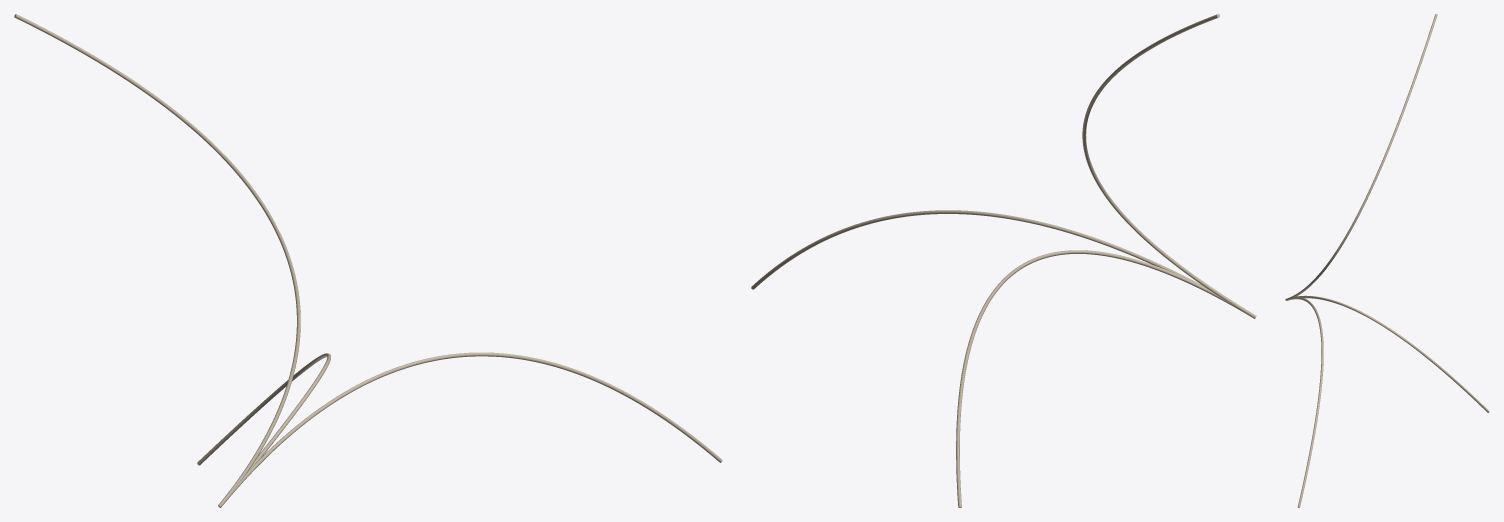
The model's file is ConjectureSpeculationSTRINGS.gltf.
The picture shows the model from 3 angles, left to right: view 1: azimuth 30°, elevation 25°; view 2: azimuth 150°, elevation 25°; view 3: azimuth 270°, elevation 25°; orthographic projection. The views are drawn at different scales.
Parts seen in each view (by area): view 1: ConjectureSpeculationSTRINGS; view 2: ConjectureSpeculationSTRINGS; view 3: ConjectureSpeculationSTRINGS.
Boxes of the visible parts, <box> form: ConjectureSpeculationSTRINGS: <box>14,14,722,507</box>; ConjectureSpeculationSTRINGS: <box>751,14,1256,507</box>; ConjectureSpeculationSTRINGS: <box>1285,14,1489,507</box>.
Bounding box in the file's own units: 17.64 × 15.16 × 8.47.
